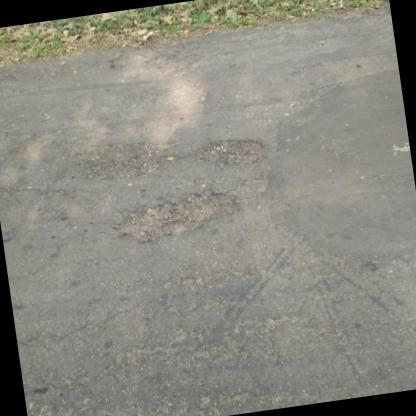pothole: (107, 182, 244, 248), (71, 134, 168, 186), (194, 130, 268, 173)
